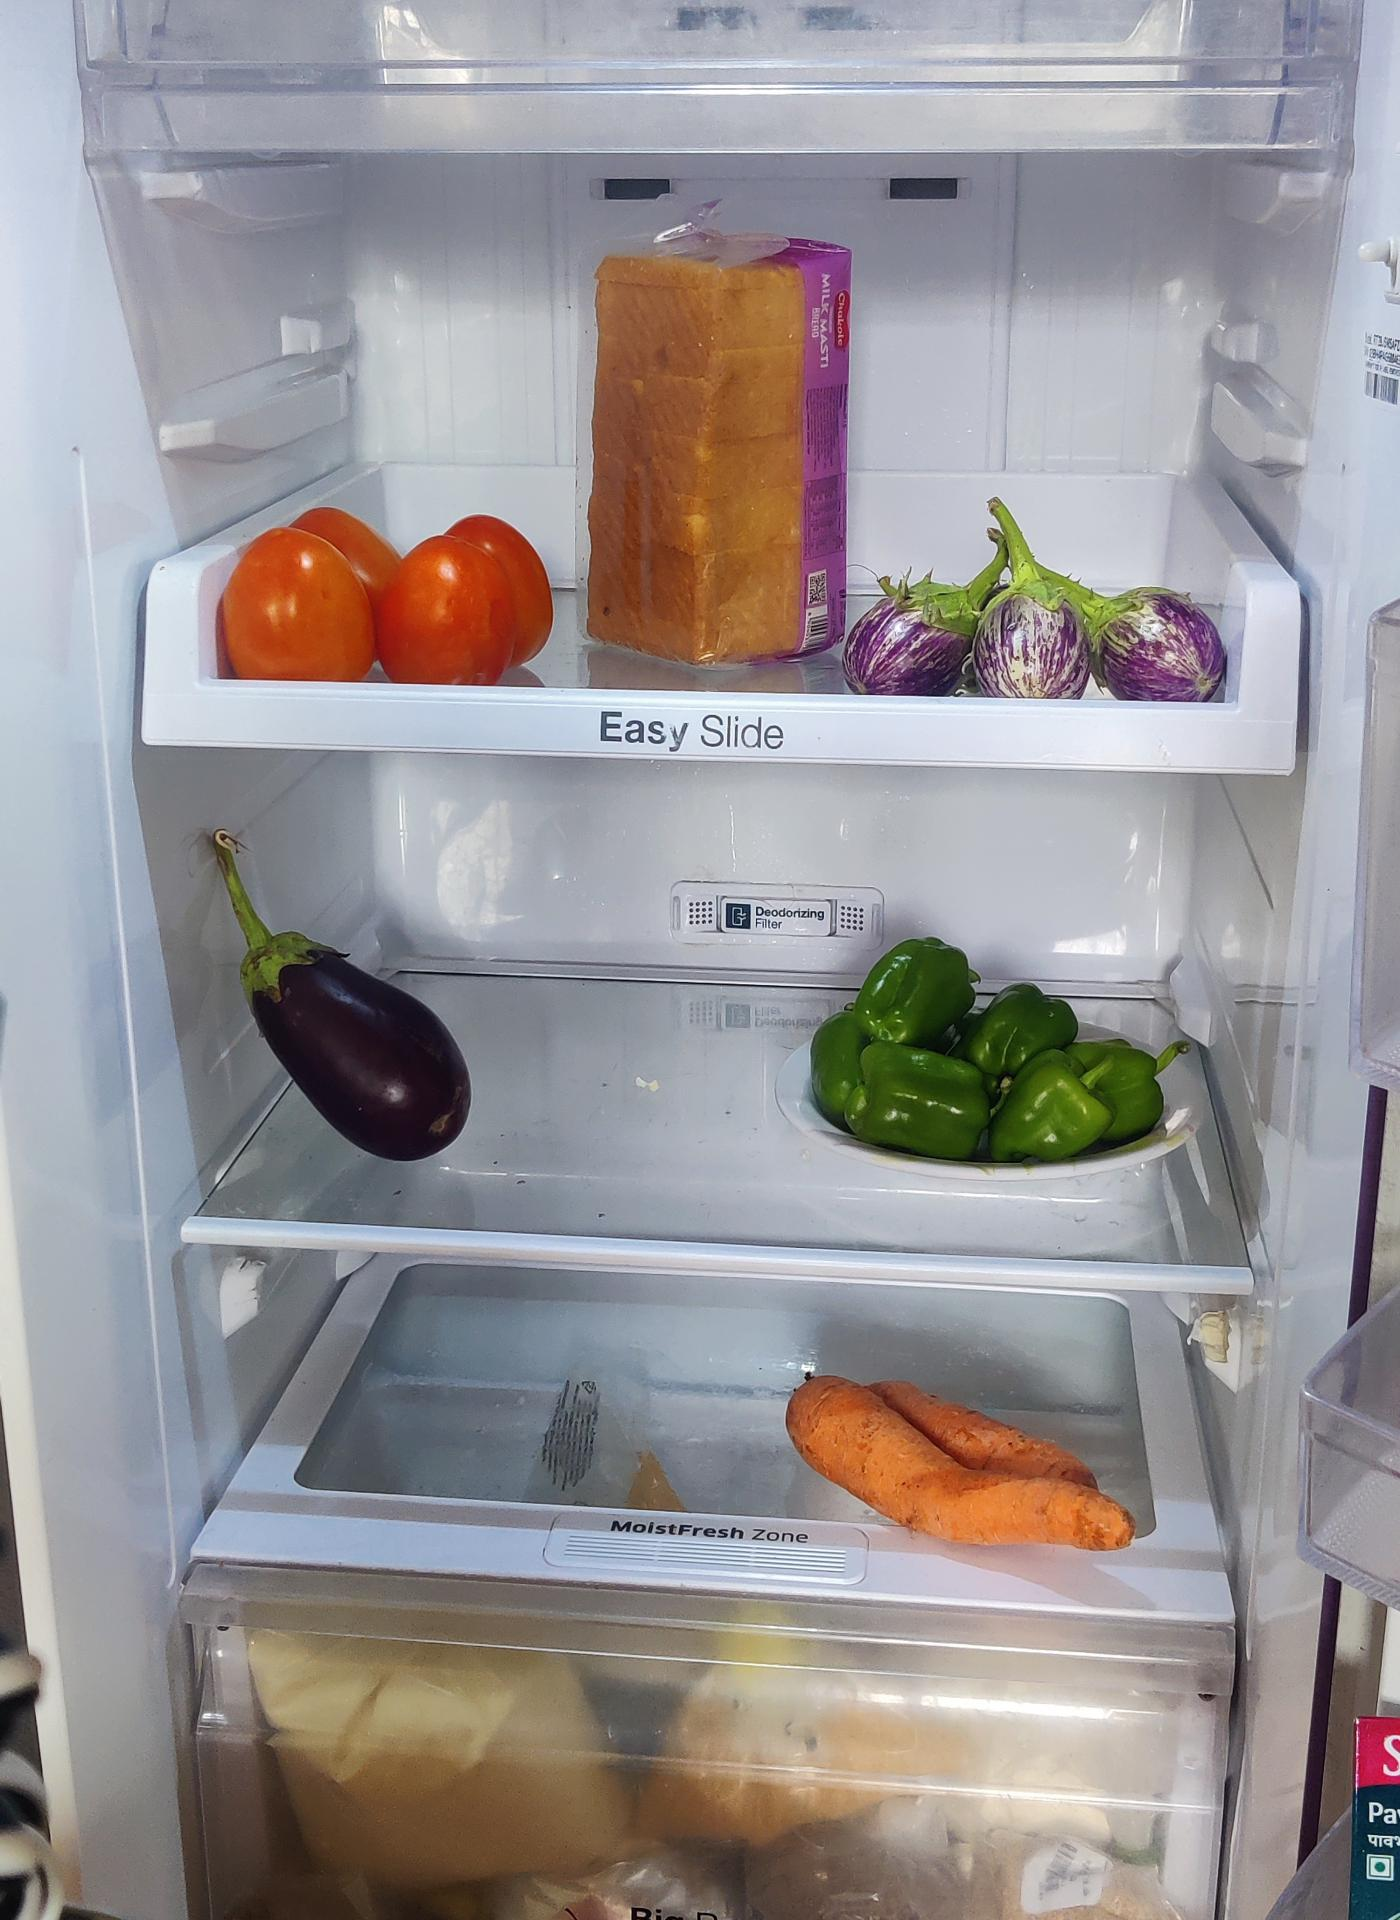bread: (586, 225, 866, 666)
capsicum: (802, 935, 1187, 1166)
carrots: (783, 1371, 1145, 1556)
tomato: (213, 508, 558, 689)
